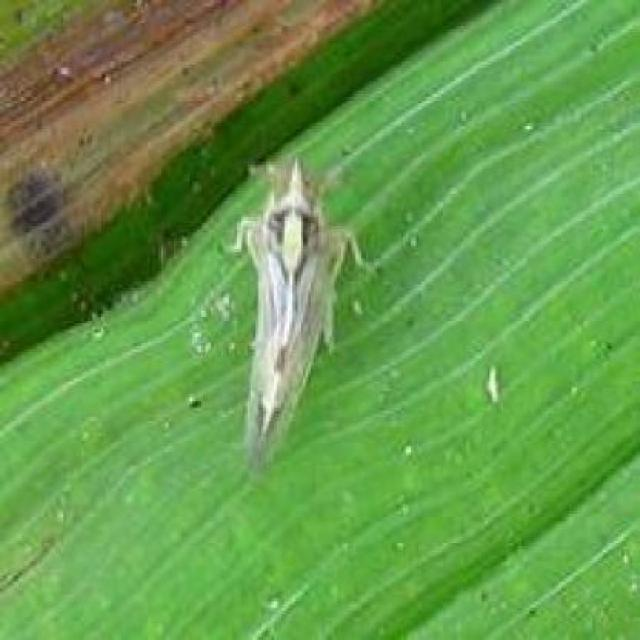brown-planthopper: (236, 175, 332, 472)
